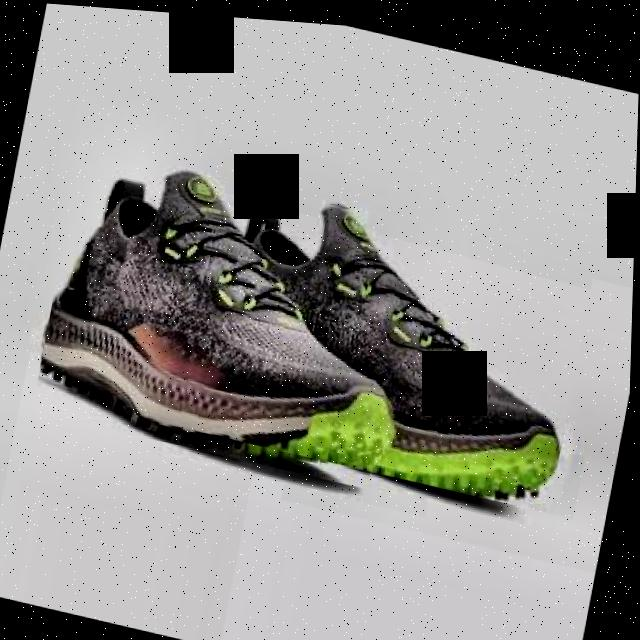shoe: (178, 171, 598, 507), (33, 142, 435, 489)
